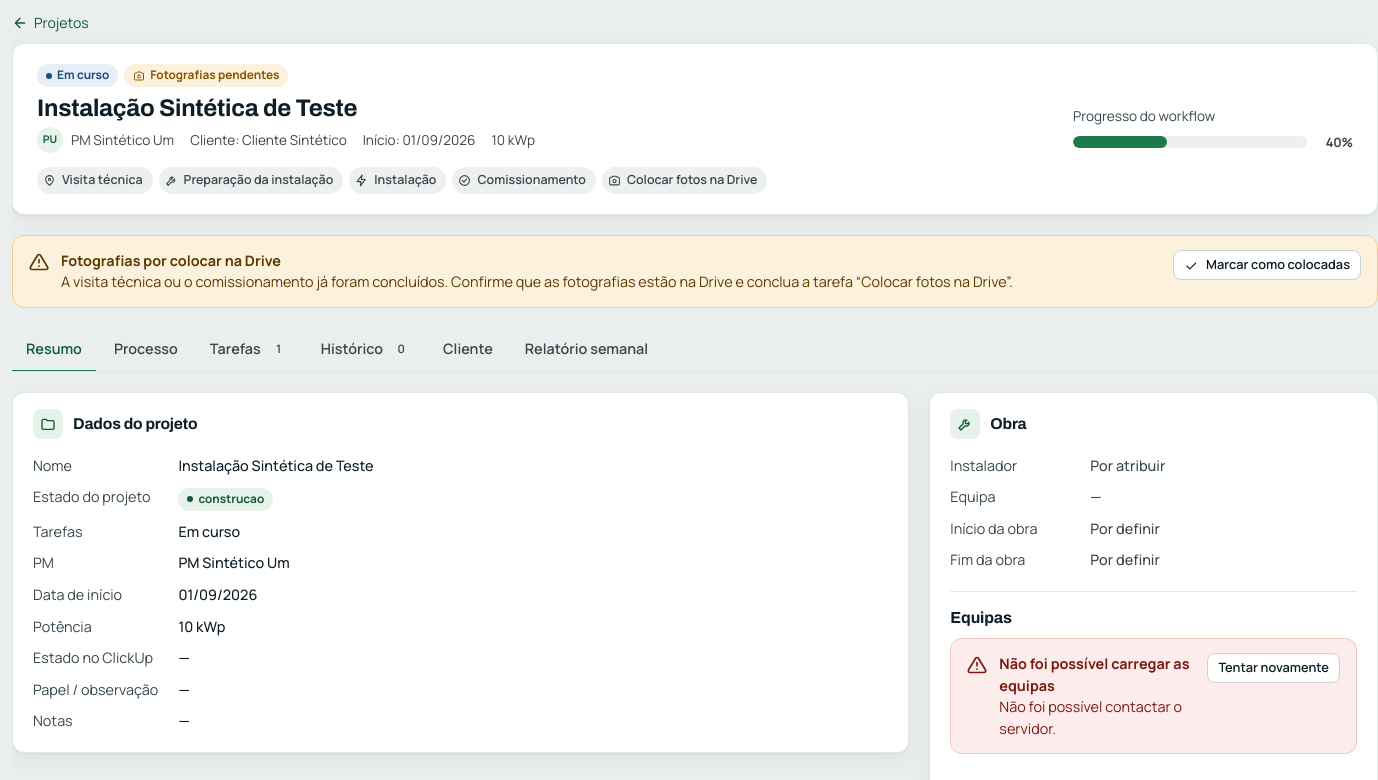
Test: Detalhe do projeto — permissões › mostra o aviso de fotografias e permite concluir a tarefa das fotos
Expected: the text "Fotografias por colocar na Drive" is shown, [61,251,281,270]
What coordinates should you click on to do the following:
click the button "Marcar como colocadas"
I would click on:
 (1267, 265)
Its box is [1173,250,1361,280].
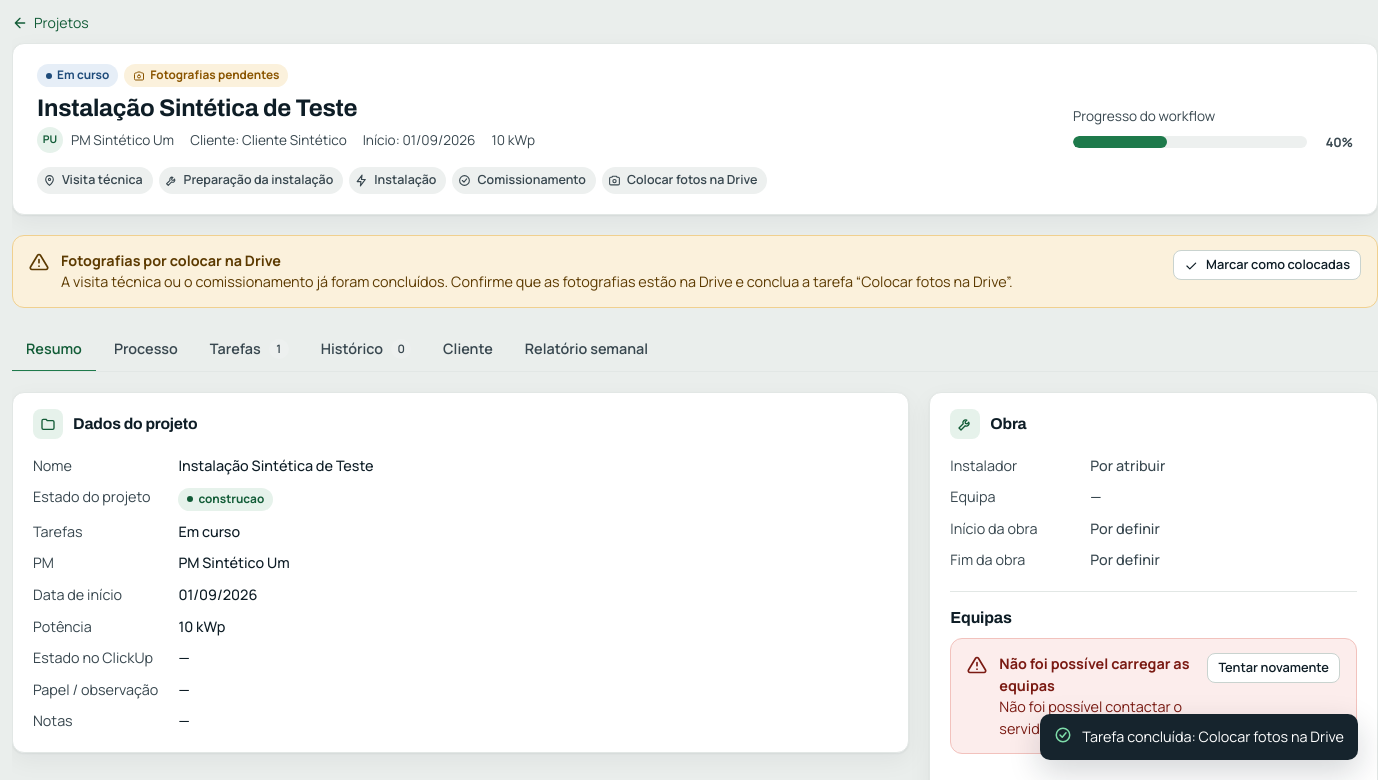
Now the text "Tarefa concluída: Colocar fotos na Drive" is shown, box [1082,726,1344,748]
